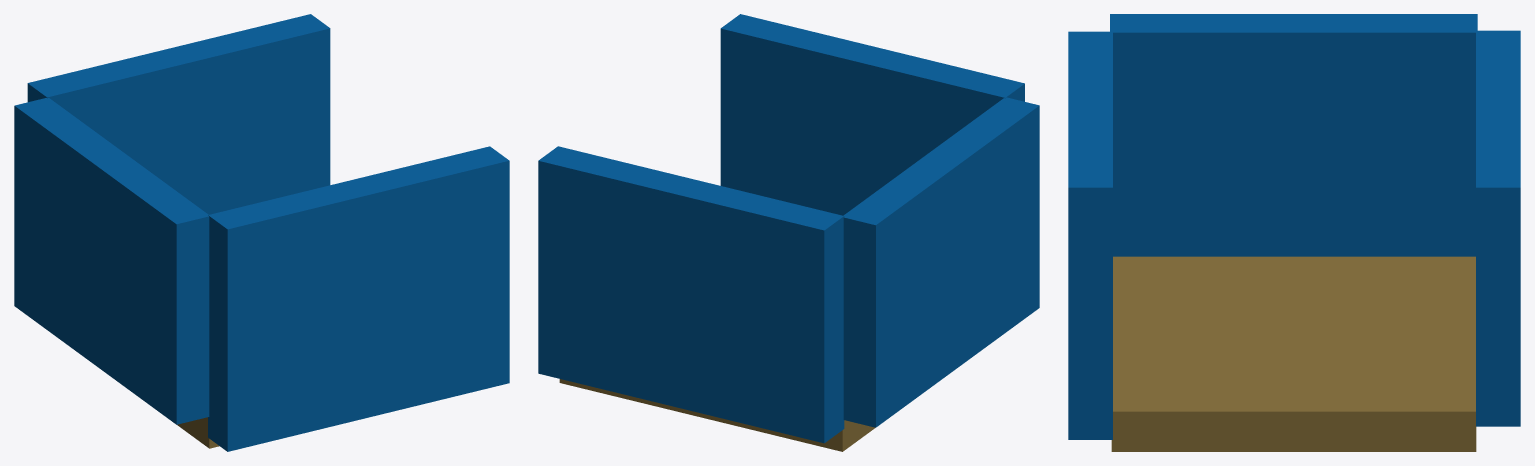
File: TitleRoom.obj
3 views of the same model, side by side, from view 1: azimuth 30°, elevation 25°; view 2: azimuth 150°, elevation 25°; view 3: azimuth 270°, elevation 25° (orthographic). The views are drawn at different scales.
Visible parts, largest first — view 1: Cube.002, Cube.001, Cube.003, Cube; view 2: Cube.003, Cube.001, Cube.002, Cube; view 3: Cube.001, Cube, Cube.002, Cube.003.
Boxes of the visible parts, bbox=[...] form: Cube.002: bbox=[208, 146, 509, 451]; Cube.001: bbox=[14, 98, 209, 424]; Cube.003: bbox=[27, 14, 330, 214]; Cube: bbox=[177, 417, 219, 448]; Cube.003: bbox=[538, 146, 844, 443]; Cube.001: bbox=[843, 97, 1039, 427]; Cube.002: bbox=[720, 14, 1024, 215]; Cube: bbox=[559, 379, 875, 451]; Cube.001: bbox=[1110, 14, 1477, 256]; Cube: bbox=[1111, 256, 1476, 451]; Cube.002: bbox=[1068, 31, 1112, 439]; Cube.003: bbox=[1476, 30, 1520, 426].
Bounding box in the file's own units: 18.57 × 13.16 × 20.34.
